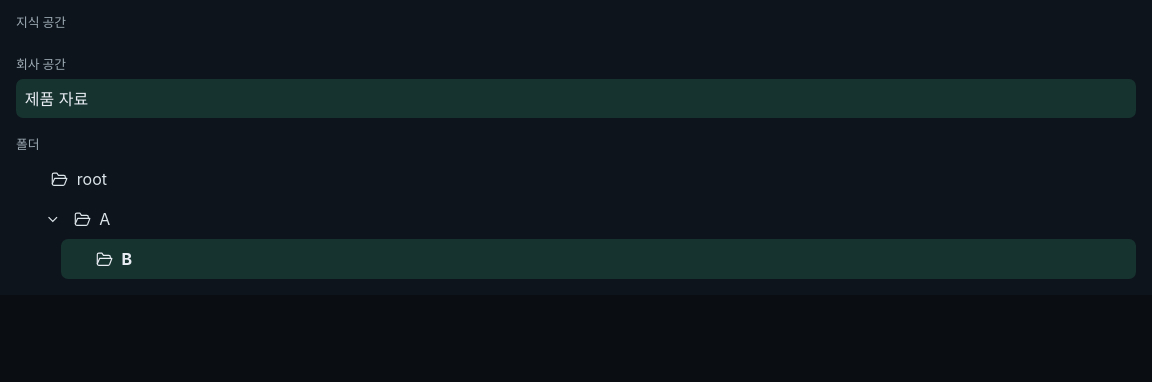
Test case: loads authoritative siblings and their next page when reopening a restored ancestor seed
Click the button named "A 하위 폴더 접기". click: (52, 219)
box: x1=38 y1=199 x2=66 y2=239
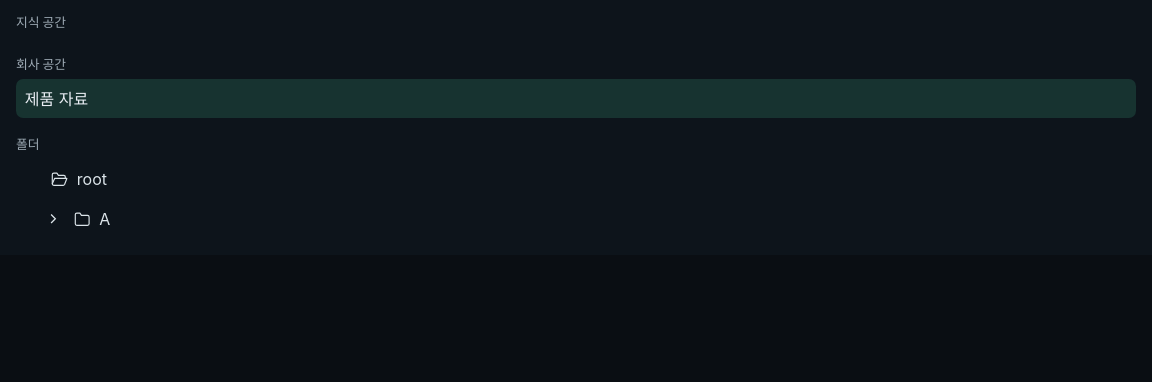
Click the button named "A 하위 폴더 펼치기". click: (52, 219)
box: x1=38 y1=199 x2=66 y2=239
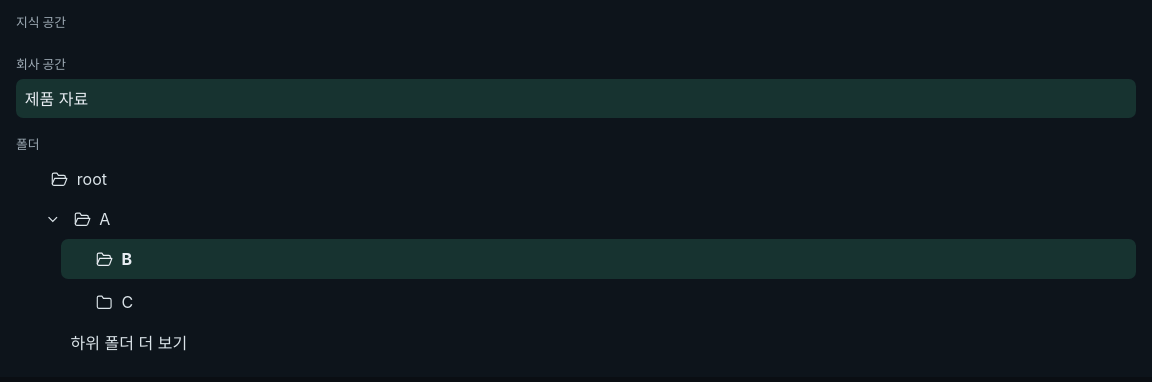
Now the button named "C 폴더 열기" is shown, box x1=89 y1=282 x2=1136 y2=322
Click the button "하위 폴더 더 보기". click: (129, 342)
box: x1=61 y1=322 x2=197 y2=361
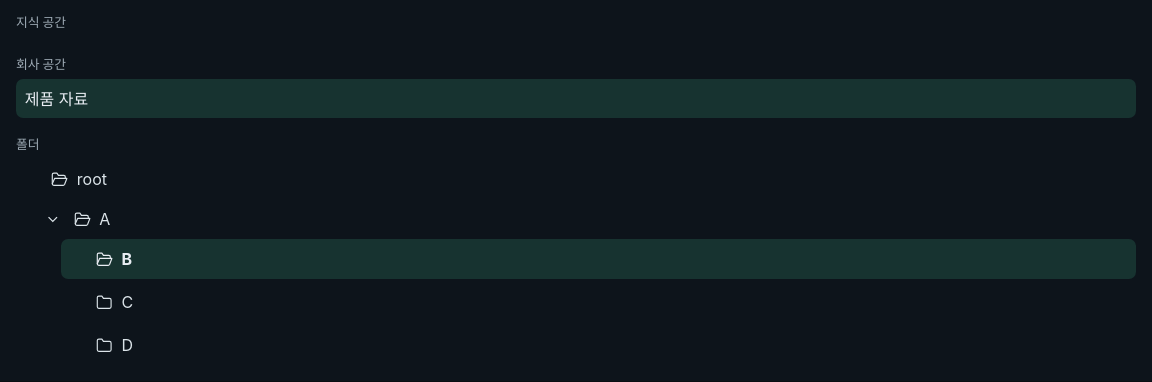
Now the button named "D 폴더 열기" is shown, box x1=89 y1=325 x2=1136 y2=365
